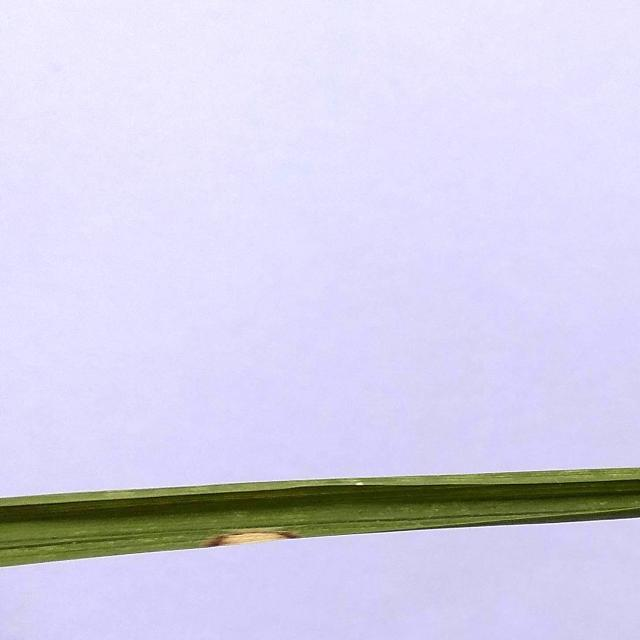Blast: (210, 536, 294, 544)
